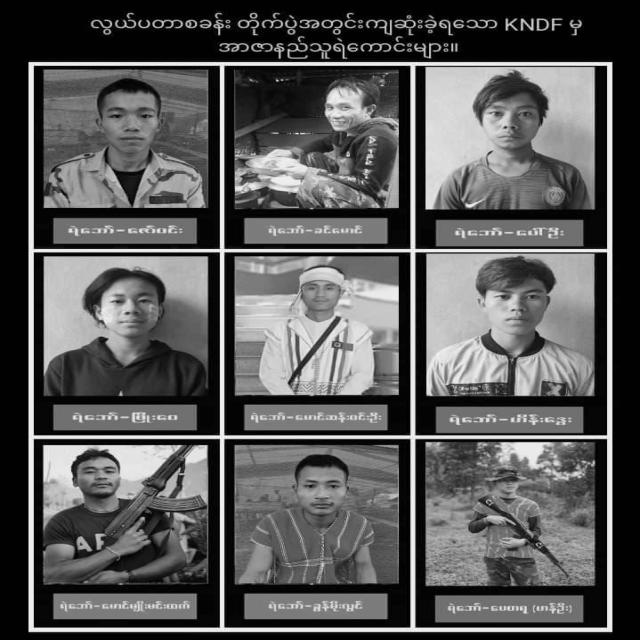gun: (90, 444, 207, 582), (469, 490, 574, 581)
